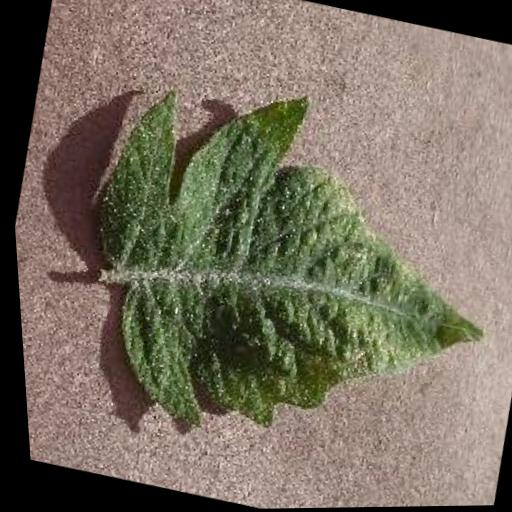Spider Mites: (38, 50, 512, 499)
